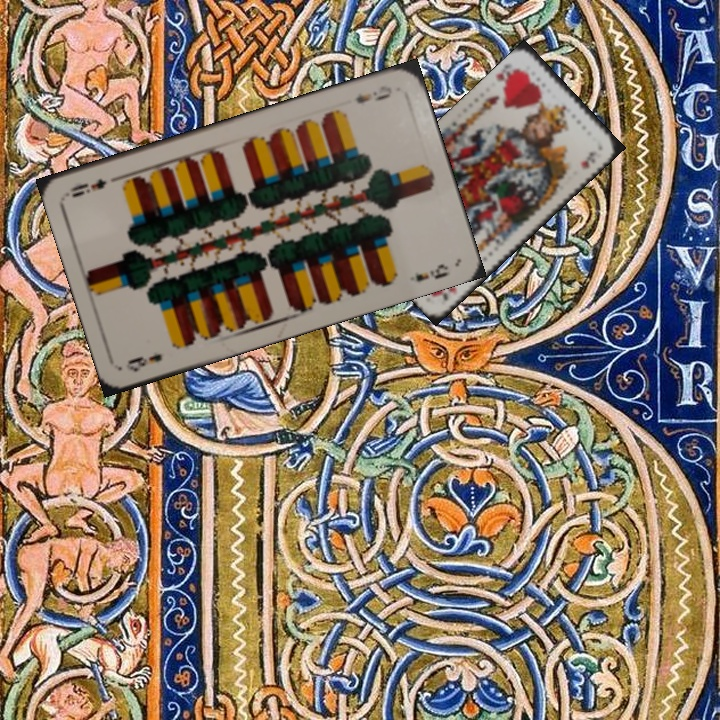E9: (122, 349, 165, 375), (351, 81, 395, 106)
HK: (432, 283, 459, 308), (491, 67, 511, 91)
